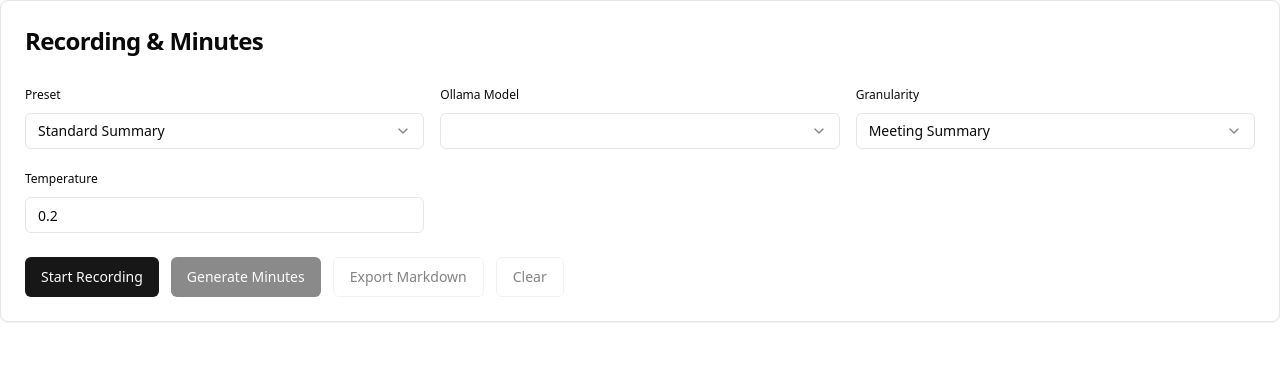
it: MainControlCard › 録音オプション未設定時は録音開始エラーを表示する
Step 1. Click the button "Start Recording" → x=92, y=277, box [25, 257, 159, 297]
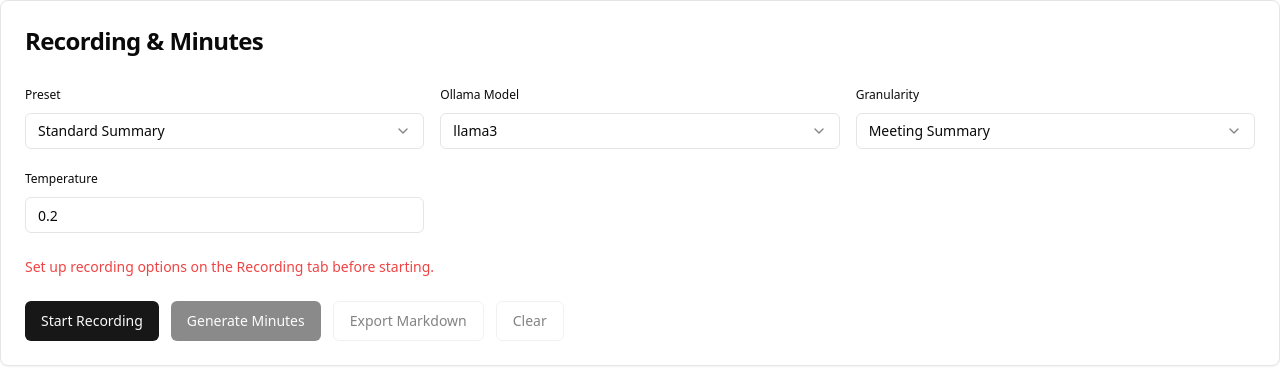
Now the text "Set up recording options on the Recording tab before starting." is shown, box [25, 257, 434, 276]
